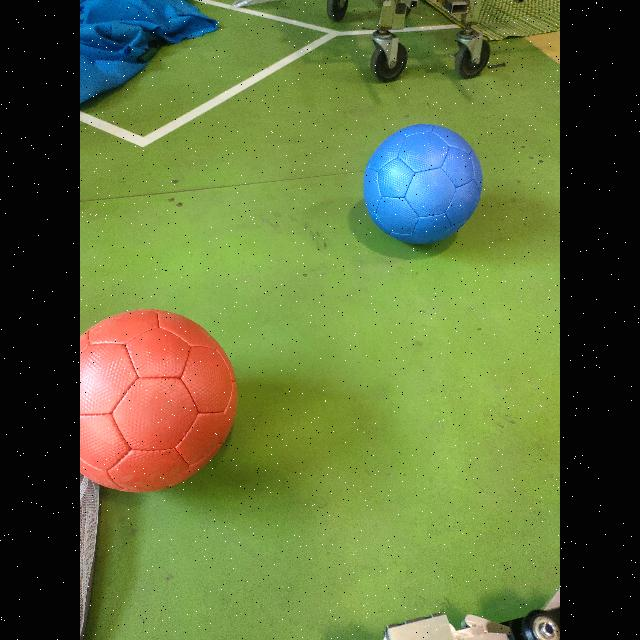B: (361, 123, 484, 244)
R: (80, 308, 238, 492)
